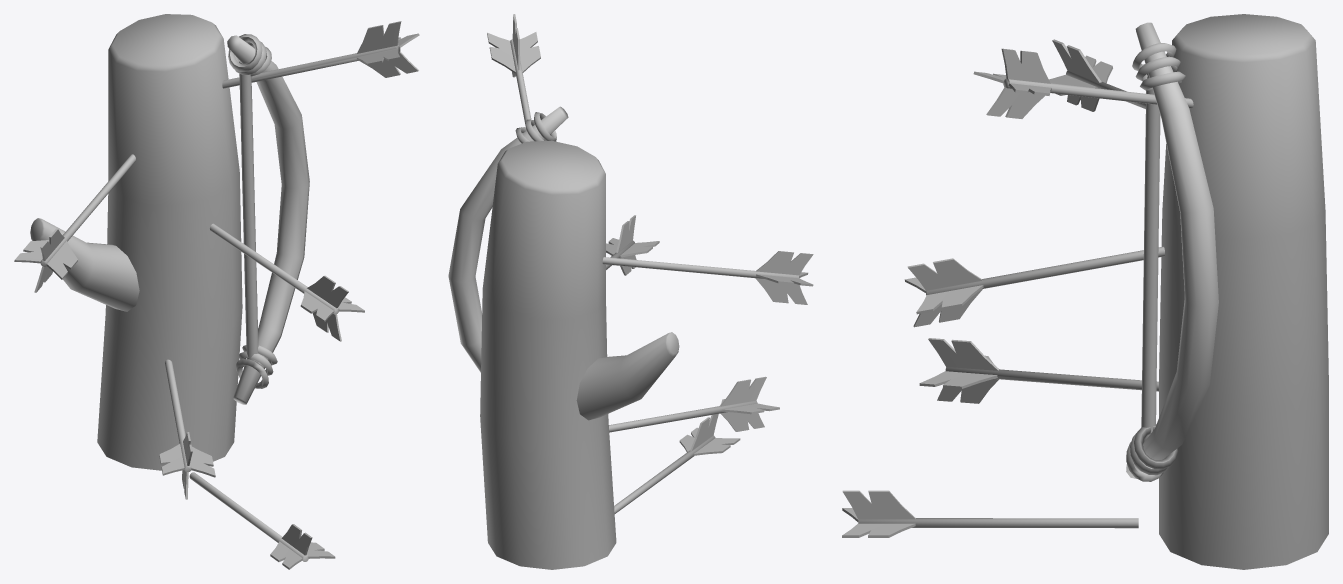
The model's file is ArcherTrainer_lvl1.fbx.
3 renders of one model, left to right at view 1: azimuth 30°, elevation 25°; view 2: azimuth 150°, elevation 25°; view 3: azimuth 270°, elevation 25°, orthographic. The views are drawn at different scales.
Parts seen in each view (by area): view 1: Lvl1_ArcherTrainer; view 2: Lvl1_ArcherTrainer; view 3: Lvl1_ArcherTrainer.
Boxes of the visible parts, x1,y1,x2,y2 form: Lvl1_ArcherTrainer: (14, 14, 419, 569); Lvl1_ArcherTrainer: (448, 14, 813, 569); Lvl1_ArcherTrainer: (842, 14, 1328, 569).
Bounding box in the file's own units: 1.49 × 1.75 × 1.35.
